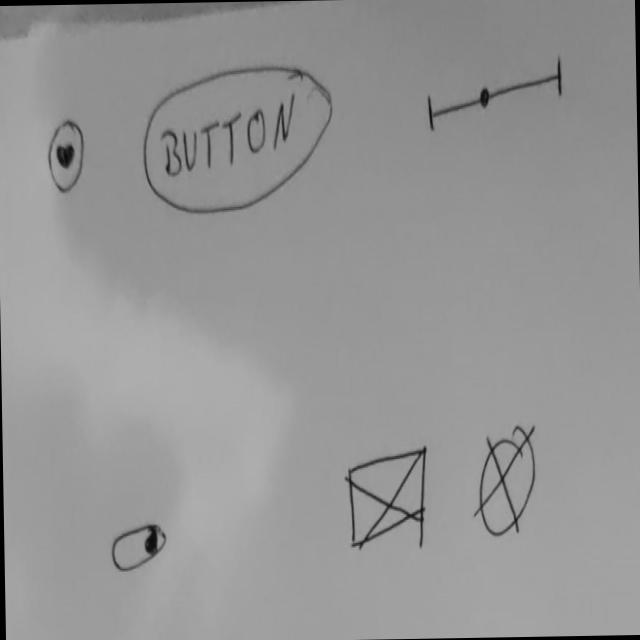button: (138, 61, 336, 217)
icon-button: (46, 117, 86, 197)
image: (344, 441, 428, 554), (470, 420, 539, 540)
slider: (423, 51, 565, 132)
toggle: (110, 520, 168, 578)
